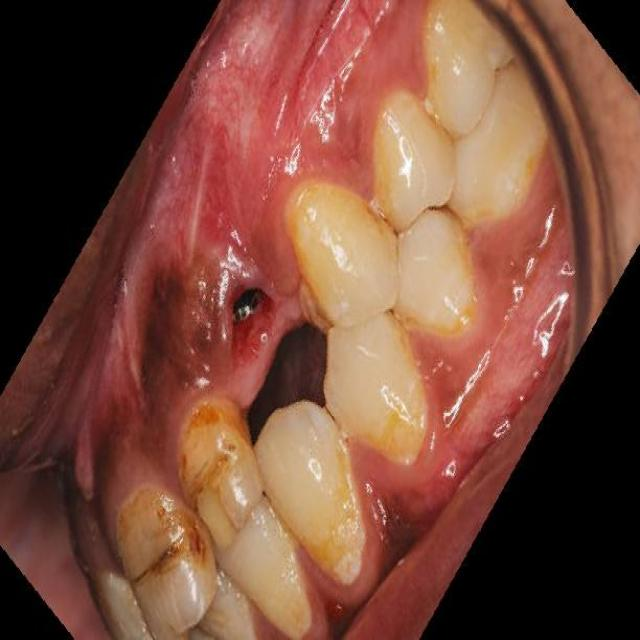caries: (178, 398, 260, 540), (120, 489, 210, 616)
